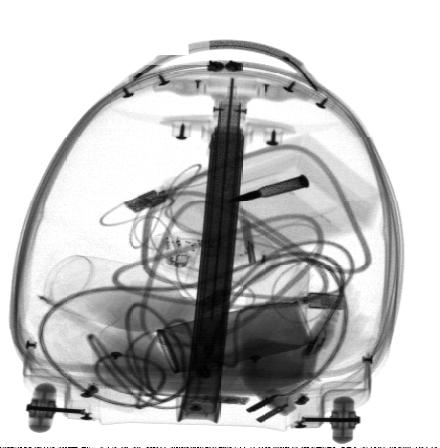Bullet: (227, 174, 309, 201)
